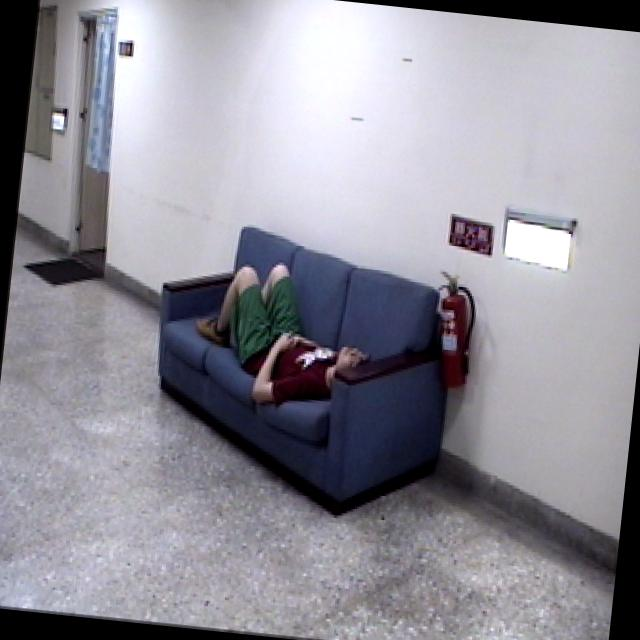lie: (182, 246, 387, 420)
